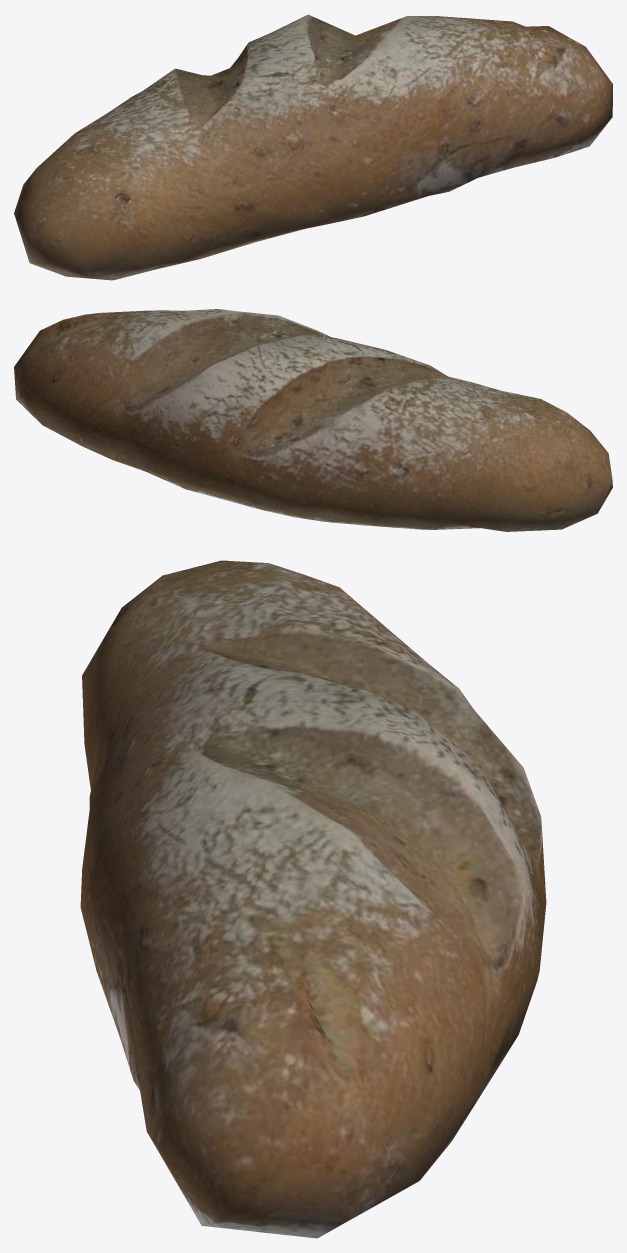
File: 3DBread011.glb
3 renders of one model, top to bottom at view 1: azimuth 30°, elevation 25°; view 2: azimuth 150°, elevation 25°; view 3: azimuth 270°, elevation 25°, orthographic. The views are drawn at different scales.
Parts seen in each view (by area): view 1: 3DBread011; view 2: 3DBread011; view 3: 3DBread011.
Boxes of the visible parts, <box> form: 3DBread011: <box>14,14,612,280</box>; 3DBread011: <box>14,309,612,531</box>; 3DBread011: <box>80,560,546,1238</box>.
Size of the model in its own units: 0.1555 by 0.038 by 0.0553.
Materials: 1 (1 with a texture image).
